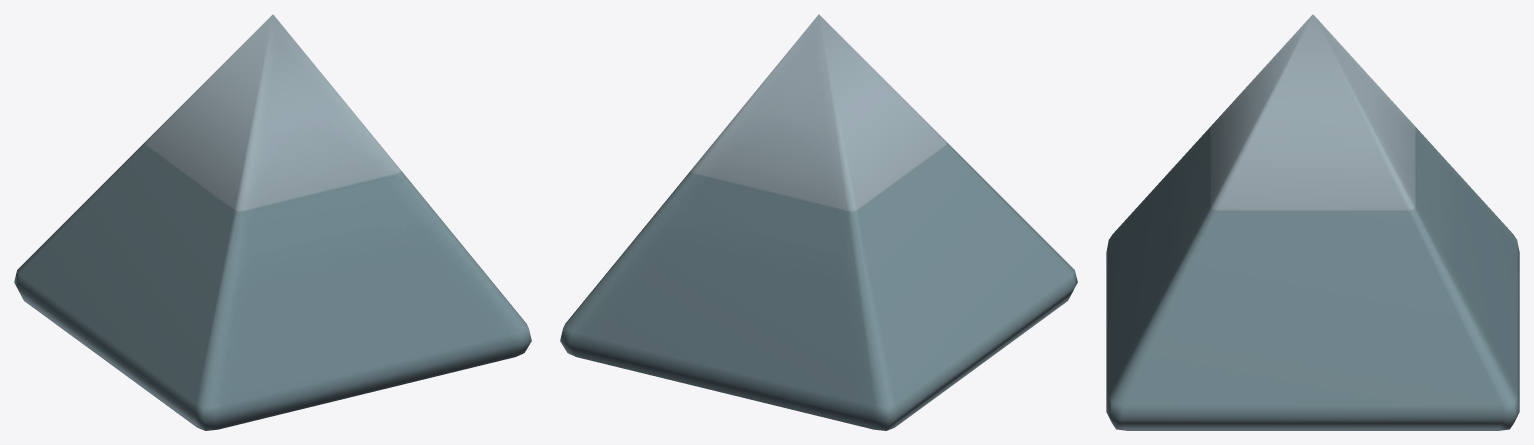
Rendered from Props.fbx.
The picture shows the model from 3 angles, left to right: view 1: azimuth 30°, elevation 25°; view 2: azimuth 150°, elevation 25°; view 3: azimuth 270°, elevation 25°; orthographic projection. The views are drawn at different scales.
Parts seen in each view (by area): view 1: 三角锥; view 2: 三角锥; view 3: 三角锥.
Boxes of the visible parts, x1=… form: 三角锥: x1=14, y1=14, x2=531, y2=430; 三角锥: x1=560, y1=14, x2=1077, y2=430; 三角锥: x1=1106, y1=14, x2=1519, y2=430.
Bounding box in the file's own units: 3.59 × 3.19 × 3.6.
1 material, 1 textured.
